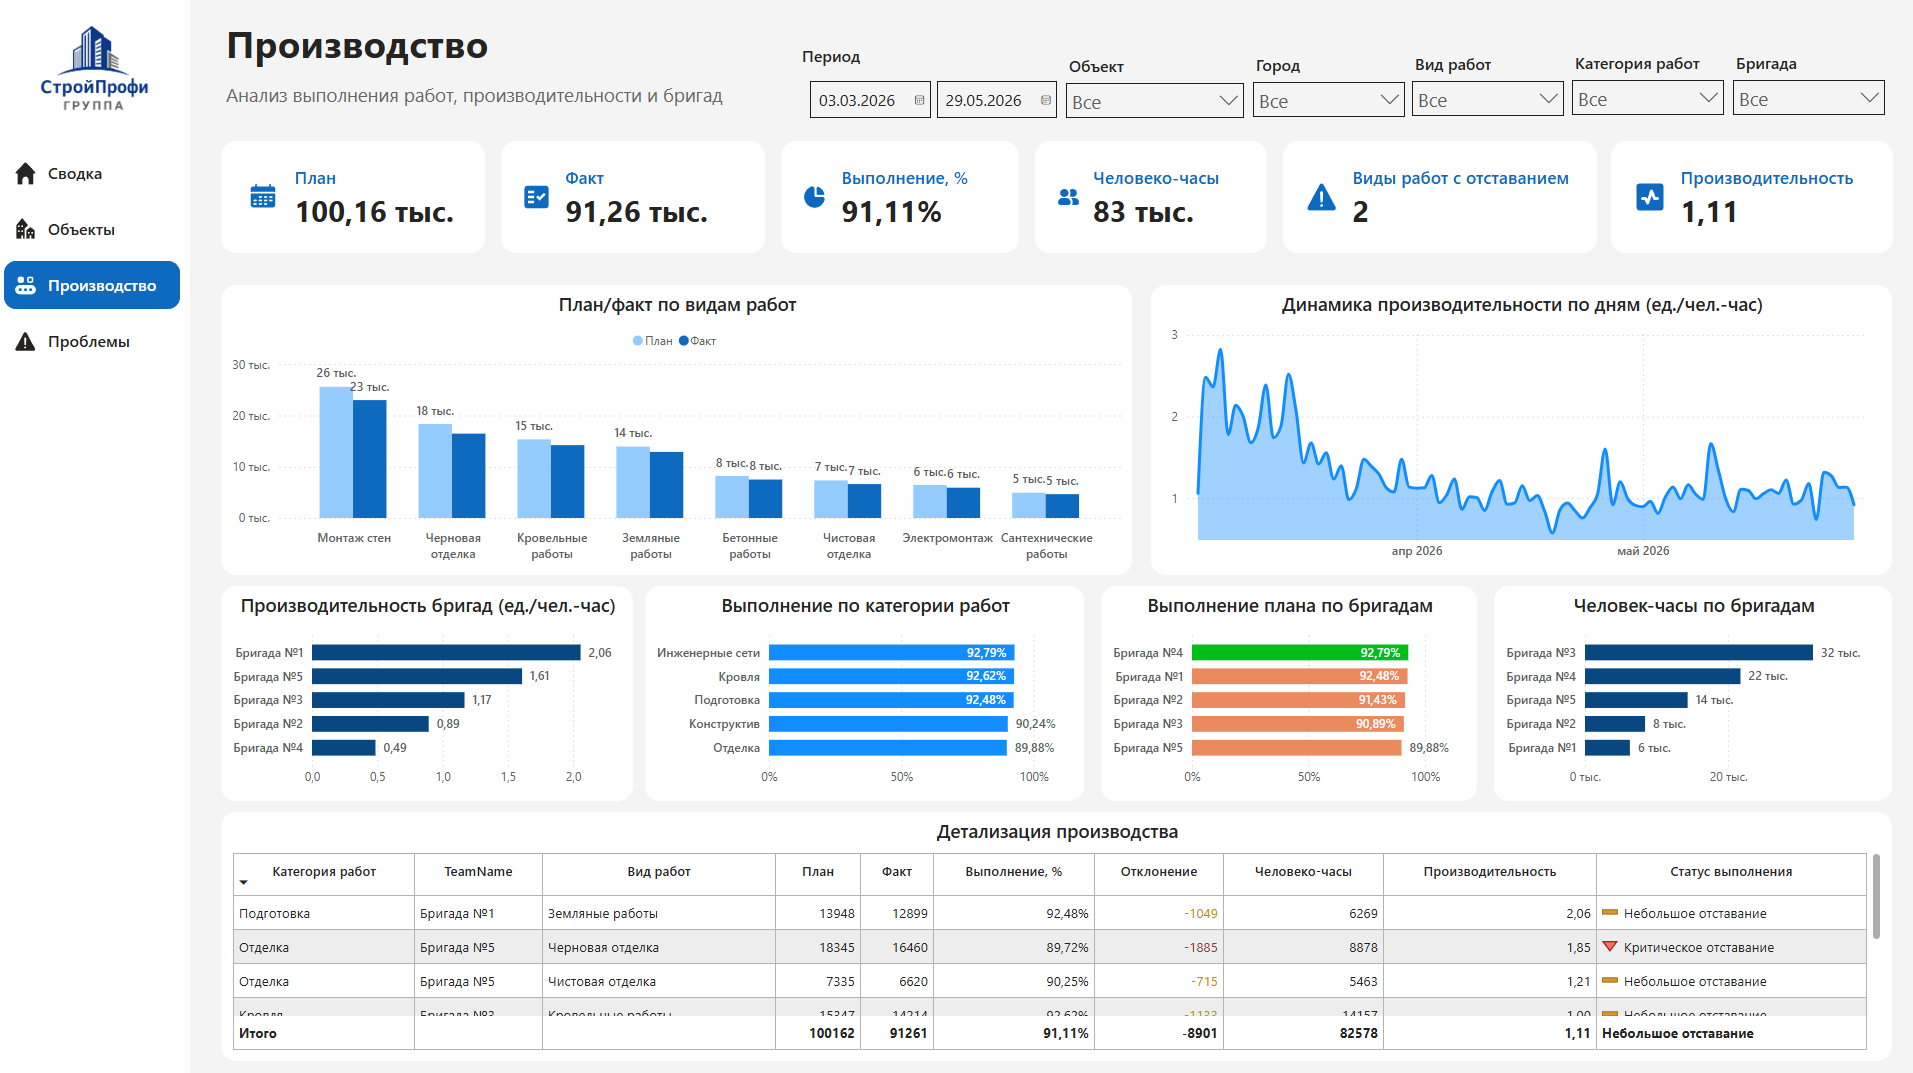

Layout of this report page (visuals, bound fields, positions):
{"tool":"powerbi","page":{"name":"Производство","canvas":[1920,1080],"ordinal":2},"visuals":[{"type":"shape","box":[0,0,192.5,1080],"z":0},{"type":"textbox","box":[46.5,160,82.2,31.1],"z":0,"group":"g1"},{"type":"textbox","box":[46.5,216,82.2,31.1],"z":0,"group":"g2"},{"type":"textbox","box":[46.2,272,121.7,31.2],"z":0,"group":"g3"},{"type":"textbox","box":[46.2,328,121.7,31.2],"z":0,"group":"g4"},{"type":"group","id":"g1","title":"Группа 1","box":[16,160,112,24],"z":1000},{"type":"image","box":[16,163.2,24.9,25.6],"z":1000,"group":"g1"},{"type":"image","box":[16,219.2,24.9,25.6],"z":1000,"group":"g2"},{"type":"image","box":[16,275.4,24.9,25.6],"z":1000,"group":"g3"},{"type":"image","box":[16,331.4,24.9,25.6],"z":1000,"group":"g4"},{"type":"shape","box":[7.2,264.4,176.1,47.8],"z":2000},{"type":"group","id":"g2","title":"Группа 1","box":[16,216,112,32],"z":3000,"group":"g5"},{"type":"group","id":"g3","title":"Группа 1","box":[16,272,152,32],"z":3000},{"type":"group","id":"g4","title":"Группа 1","box":[16,328,152,32],"z":4000},{"type":"textbox","box":[224,16,1088,64],"z":5000},{"type":"textbox","box":[224,80,612,40],"z":6000},{"type":"cardVisual","title":"43","fields":{"Data":["Меры.План"]},"box":[224,144,264,112],"z":7000},{"type":"cardVisual","title":"43","fields":{"Data":["Меры.Факт"]},"box":[504,144,264,112],"z":8000},{"type":"cardVisual","title":"43","fields":{"Data":["Меры.Выполнение, %"]},"box":[784.4,144.4,237.8,111.1],"z":9000},{"type":"cardVisual","title":"43","fields":{"Data":["Меры.Человеко-часы"]},"box":[1037.8,144.4,232.2,111.1],"z":10000},{"type":"cardVisual","title":"43","fields":{"Data":["Меры.Виды работ с отставанием"]},"box":[1285.6,144.4,314.4,111.1],"z":11000},{"type":"cardVisual","title":"43","fields":{"Data":["Меры.Производительность"]},"box":[1614.4,144.4,281.1,111.1],"z":12000},{"type":"tableEx","title":"Детализация производства","fields":{"Values":["DimWorkTypes.WorkCategory","DimTeams.TeamName","DimWorkTypes.WorkTypeName","Меры.План","Меры.Факт","Меры.Выполнение, %","Меры.Отклонение","Меры.Человеко-часы","Меры.Производительность","Меры.Статус выполнения"]},"box":[224,815,1671,249],"z":13000},{"type":"clusteredBarChart","title":"Производительность бригад (ед./чел.-час)","fields":{"Y":["Меры.Производительность"],"Category":["DimTeams.TeamName"]},"box":[224,589,412,215],"z":14000},{"type":"slicer","title":"Период","fields":{"Values":["Calendar.Date"]},"box":[800,48,272,77],"z":15000},{"type":"slicer","title":"Объект","fields":{"Values":["DimObjects.ObjectName"]},"box":[1059,53,198,97],"z":16000},{"type":"slicer","title":"Объект","fields":{"Values":["DimObjects.City"]},"box":[1246,52,172,97],"z":17000},{"type":"image","box":[23,0,146,152],"z":18000},{"type":"group","id":"g5","title":"Группа 2","box":[16,216,112,32],"z":19000},{"type":"clusteredColumnChart","title":"План/факт по видам работ","fields":{"Y":["Меры.План","Меры.Факт"],"Category":["DimWorkTypes.WorkTypeName"]},"box":[224,288,911,290],"z":20000},{"type":"clusteredBarChart","title":"Выполнение по категории работ","fields":{"Y":["Меры.Выполнение, %"],"Category":["DimWorkTypes.WorkCategory"]},"box":[648,589,439,215],"z":21000},{"type":"clusteredBarChart","title":"Выполнение плана по бригадам","fields":{"Category":["DimTeams.TeamName"],"Y":["Меры.Выполнение, %"]},"box":[1104,589,376,215],"z":22000},{"type":"lineChart","title":"Динамика производительности по дням (ед./чел.-час)","fields":{"Category":["Calendar.Date.Изменение.Иерархия дат.Год"],"Y":["Меры.Производительность"]},"box":[1154,288,741,290],"z":23000},{"type":"clusteredBarChart","title":"Человек-часы по бригадам","fields":{"Y":["Меры.Человеко-часы"],"Category":["DimTeams.TeamName"]},"box":[1497,589,398,215],"z":24000},{"type":"slicer","title":"Объект","fields":{"Values":["DimWorkTypes.WorkTypeName"]},"box":[1405,51,172,97],"z":25000},{"type":"slicer","title":"Объект","fields":{"Values":["DimWorkTypes.WorkCategory"]},"box":[1565,50,172,97],"z":26000},{"type":"slicer","title":"Объект","fields":{"Values":["DimTeams.TeamName"]},"box":[1726,50,172,97],"z":27000},{"type":"actionButton","box":[6.9,149.2,175.7,52],"z":27001},{"type":"actionButton","box":[6.9,205.2,175.7,52],"z":27002},{"type":"actionButton","box":[6.9,262.1,175.7,52],"z":27003},{"type":"actionButton","box":[6.9,318,175.7,52],"z":27004}]}

Visuals, with their boxes in screenshot pixels (x1, y1, x2, y2), scaled from the page's 1920x1080 canvas onto the 1913x1073 screenshot:
shape: Rect(0, 0, 192, 1072)
textbox: Rect(46, 159, 128, 190)
textbox: Rect(46, 215, 128, 245)
textbox: Rect(46, 270, 167, 301)
textbox: Rect(46, 326, 167, 357)
"Группа 1" group: Rect(16, 159, 128, 183)
image: Rect(16, 162, 41, 188)
image: Rect(16, 218, 41, 243)
image: Rect(16, 274, 41, 299)
image: Rect(16, 329, 41, 355)
shape: Rect(7, 263, 183, 310)
"Группа 1" group: Rect(16, 215, 128, 246)
"Группа 1" group: Rect(16, 270, 167, 302)
"Группа 1" group: Rect(16, 326, 167, 358)
textbox: Rect(223, 16, 1307, 79)
textbox: Rect(223, 79, 833, 119)
"43" cardVisual: Rect(223, 143, 486, 254)
"43" cardVisual: Rect(502, 143, 765, 254)
"43" cardVisual: Rect(782, 143, 1018, 254)
"43" cardVisual: Rect(1034, 143, 1265, 254)
"43" cardVisual: Rect(1281, 143, 1594, 254)
"43" cardVisual: Rect(1609, 143, 1889, 254)
"Детализация производства" tableEx: Rect(223, 810, 1888, 1057)
"Производительность бригад (ед./чел.-час)" clusteredBarChart: Rect(223, 585, 634, 799)
"Период" slicer: Rect(797, 48, 1068, 124)
"Объект" slicer: Rect(1055, 53, 1252, 149)
"Объект" slicer: Rect(1241, 52, 1413, 148)
image: Rect(23, 0, 168, 151)
"Группа 2" group: Rect(16, 215, 128, 246)
"План/факт по видам работ" clusteredColumnChart: Rect(223, 286, 1131, 574)
"Выполнение по категории работ" clusteredBarChart: Rect(646, 585, 1083, 799)
"Выполнение плана по бригадам" clusteredBarChart: Rect(1100, 585, 1475, 799)
"Динамика производительности по дням (ед./чел.-час)" lineChart: Rect(1150, 286, 1888, 574)
"Человек-часы по бригадам" clusteredBarChart: Rect(1492, 585, 1888, 799)
"Объект" slicer: Rect(1400, 51, 1571, 147)
"Объект" slicer: Rect(1559, 50, 1731, 146)
"Объект" slicer: Rect(1720, 50, 1891, 146)
actionButton: Rect(7, 148, 182, 200)
actionButton: Rect(7, 204, 182, 256)
actionButton: Rect(7, 260, 182, 312)
actionButton: Rect(7, 316, 182, 368)
